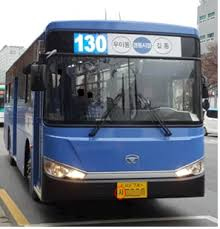bnum: (73, 32, 107, 53)
